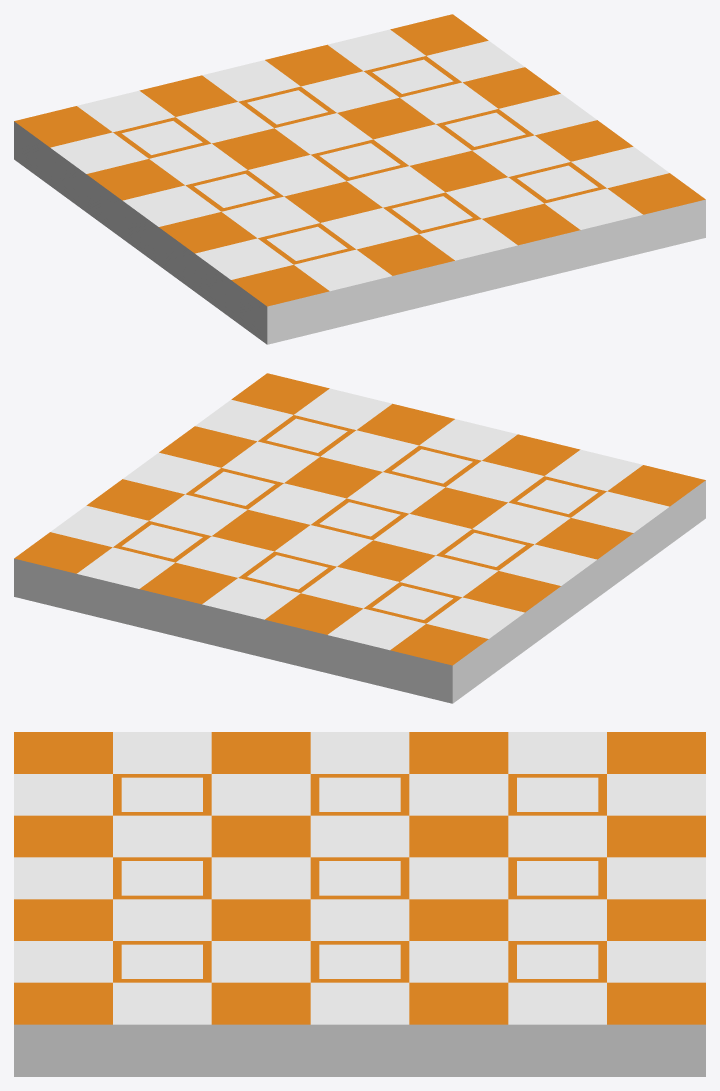
File: checkeredwhite.glb
3 views of the same model, one above another, from view 1: azimuth 30°, elevation 25°; view 2: azimuth 150°, elevation 25°; view 3: azimuth 270°, elevation 25° (orthographic). The views are drawn at different scales.
Visible parts, largest first — view 1: citytileswhite; view 2: citytileswhite; view 3: citytileswhite.
Part boxes in pixels (<box>): citytileswhite: <box>14,14,705,344</box>; citytileswhite: <box>14,373,705,703</box>; citytileswhite: <box>14,732,705,1076</box>.
Size of the model in its own units: 12 by 1 by 12.
1 material, 1 textured.
